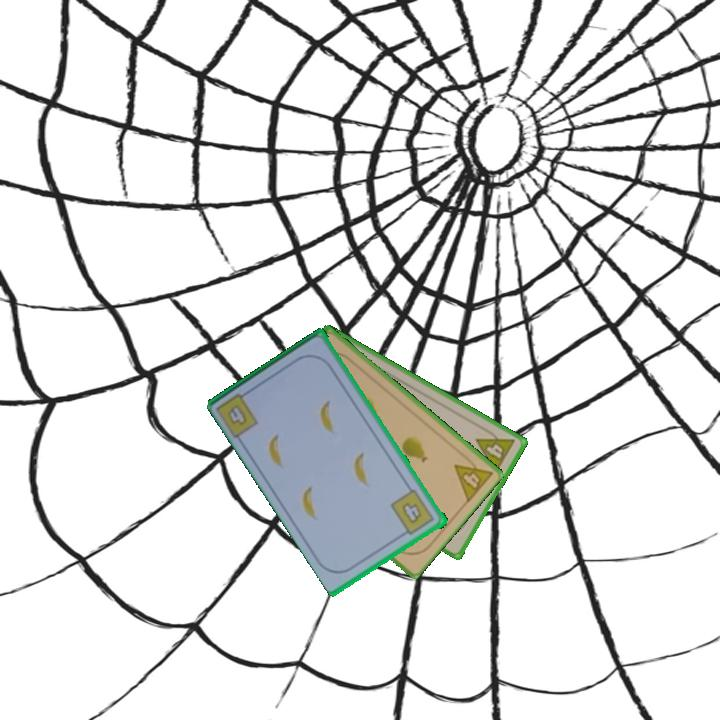4b: (387, 486, 437, 539), (214, 386, 262, 441)
4p: (472, 423, 518, 477), (451, 449, 495, 505)
